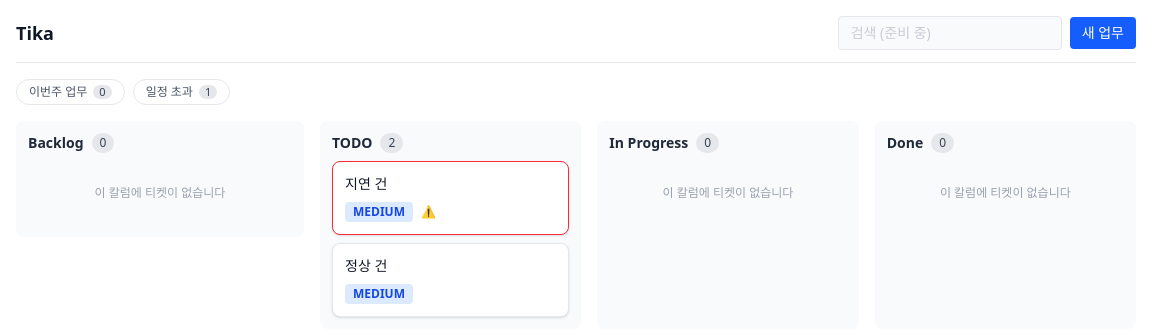
Test: BoardContainer — 필터 (COMPONENT_SPEC §2.3) › "일정 초과" 필터를 누르면 오버듀 티켓만 남는다
The image size is (1152, 336).
Expected: the text "정상 건" is shown, [345,256,387,275]
Click the button "일정 초과 1": x=181, y=92 [133,79,230,105]
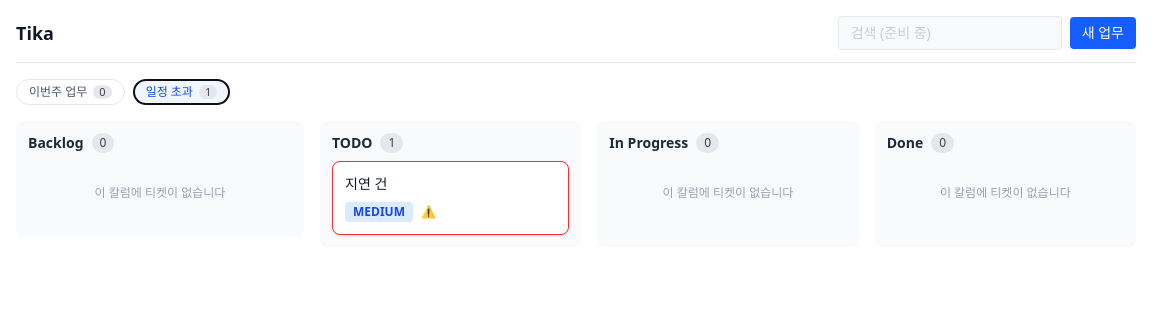
Expected: the text "지연 건" is shown, [345,174,387,193]
Expected: the button "정상 건" is gone
